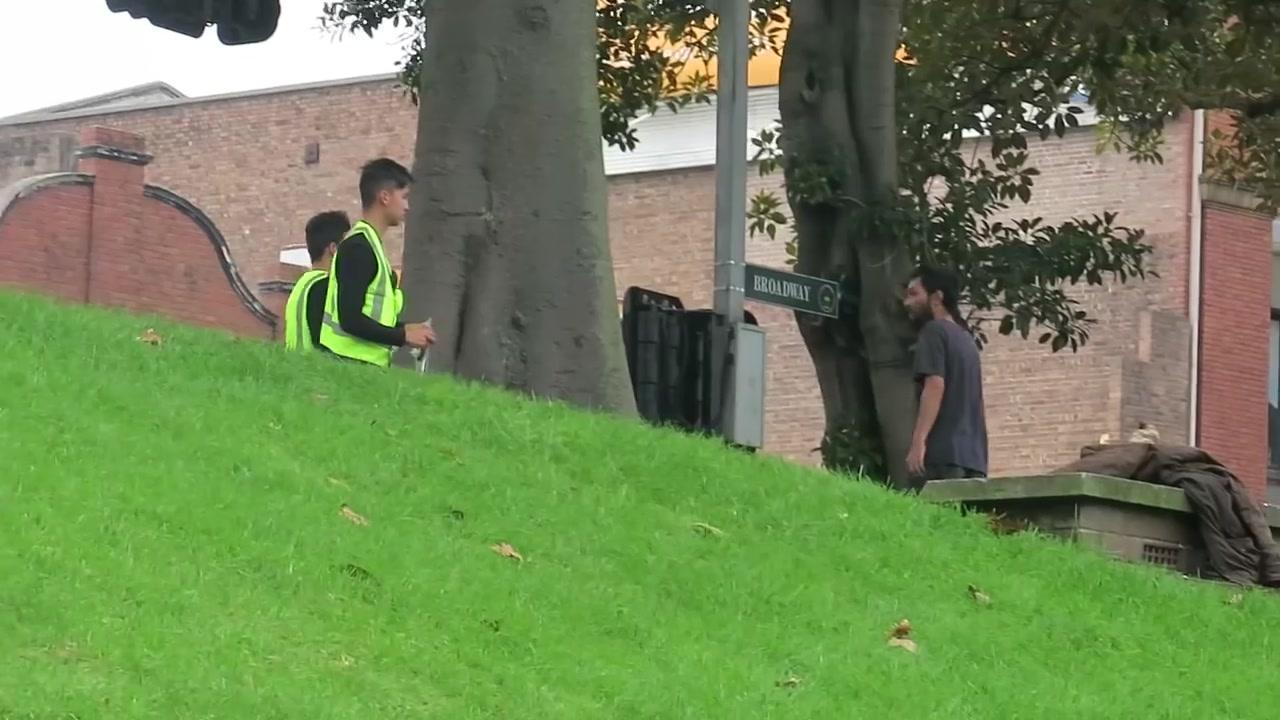vest: (317, 218, 404, 365), (283, 268, 330, 349)
